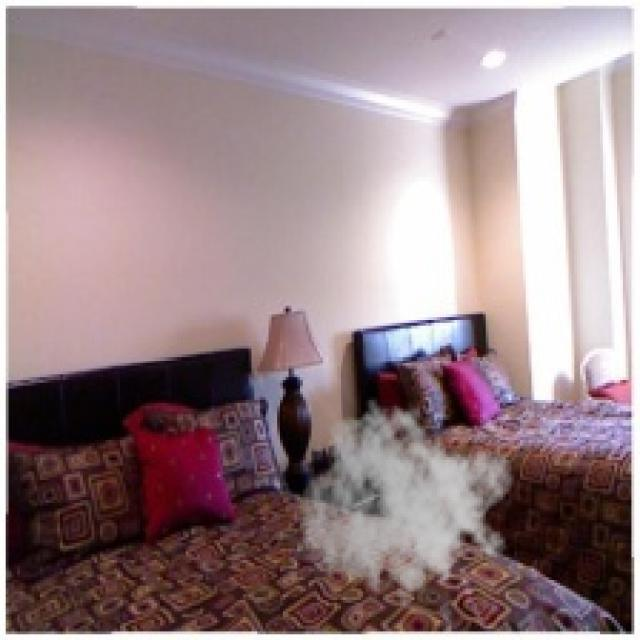Smoke: (297, 397, 514, 620)
